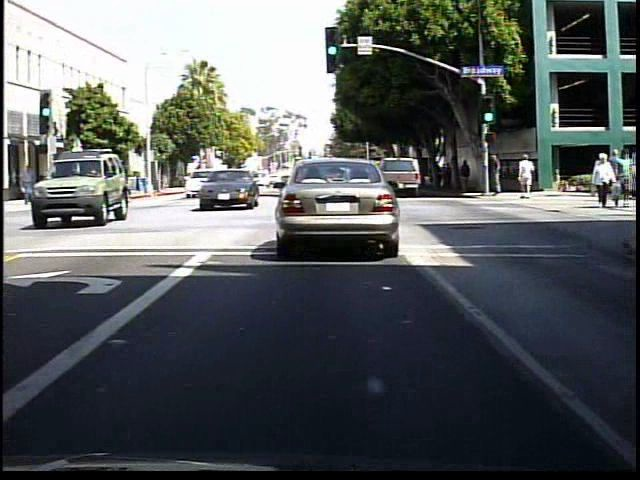person: (586, 155, 615, 210), (611, 146, 629, 211), (516, 153, 539, 203), (487, 151, 507, 204), (25, 163, 43, 209), (462, 159, 477, 193), (446, 161, 459, 194), (611, 146, 622, 167)
